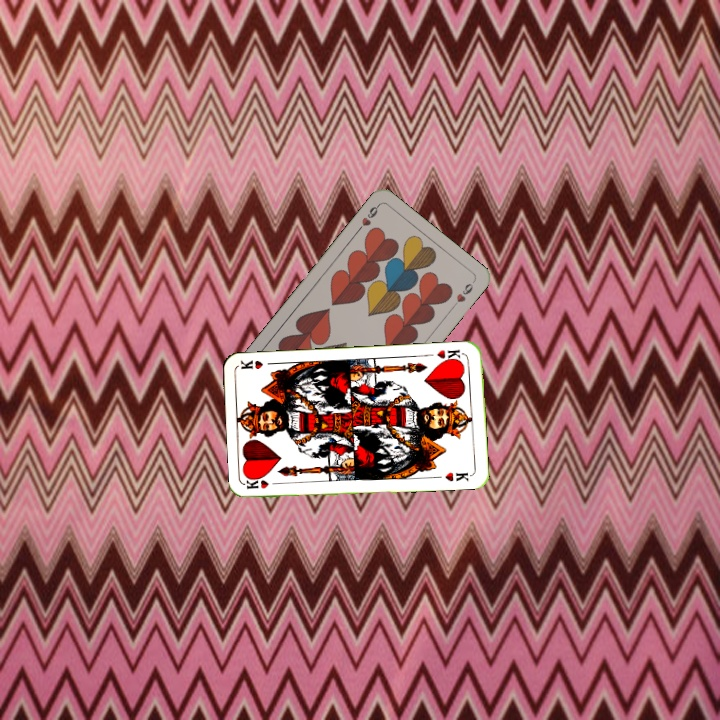H9: (352, 201, 382, 235)
HK: (433, 346, 466, 365), (243, 476, 284, 491)
